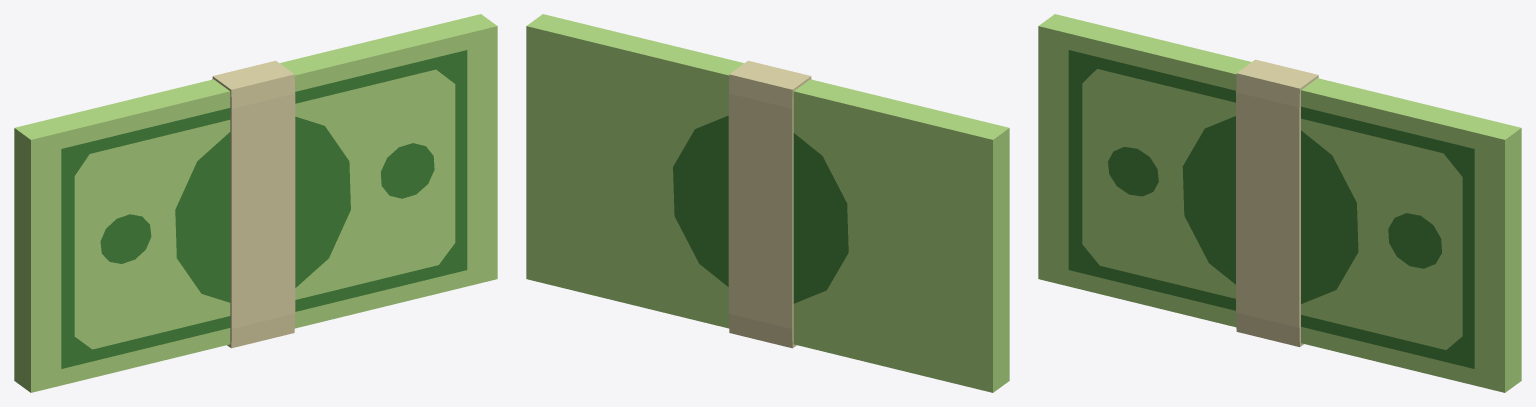
Rendered from para.fbx.
The picture shows the model from 3 angles, left to right: view 1: azimuth 30°, elevation 25°; view 2: azimuth 150°, elevation 25°; view 3: azimuth 330°, elevation 25°; orthographic projection.
Parts seen in each view (by area): view 1: para; view 2: para; view 3: para.
Boxes of the visible parts, bbox=[...] form: para: bbox=[14, 14, 497, 392]; para: bbox=[526, 14, 1009, 392]; para: bbox=[1038, 14, 1521, 392].
Size of the model in its own units: 386 by 204 by 28.2.
